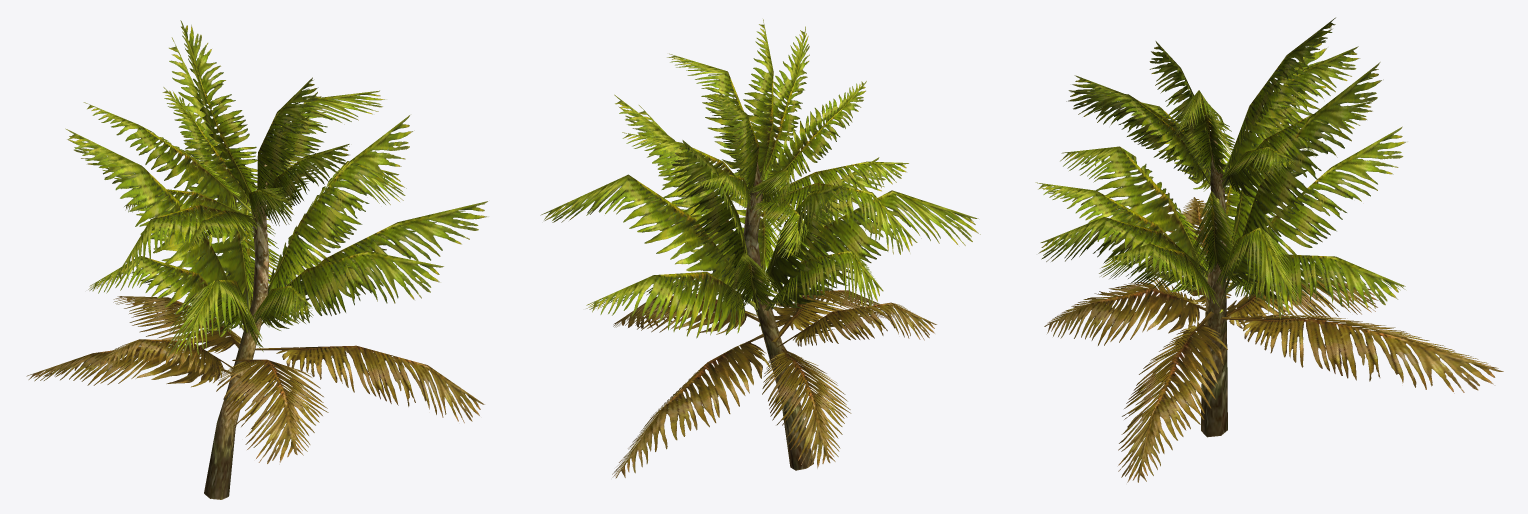
The model's file is S_Plant_Yellow015.FBX.
The picture shows the model from 3 angles, left to right: view 1: azimuth 30°, elevation 25°; view 2: azimuth 150°, elevation 25°; view 3: azimuth 270°, elevation 25°; orthographic projection. The views are drawn at different scales.
Visible parts, largest first — view 1: S_Plant_Yellow015; view 2: S_Plant_Yellow015; view 3: S_Plant_Yellow015.
Boxes of the visible parts, <box> form: S_Plant_Yellow015: <box>26,20,488,499</box>; S_Plant_Yellow015: <box>540,19,980,478</box>; S_Plant_Yellow015: <box>1035,17,1503,482</box>.
Size of the model in its own units: 278 by 304 by 295.
